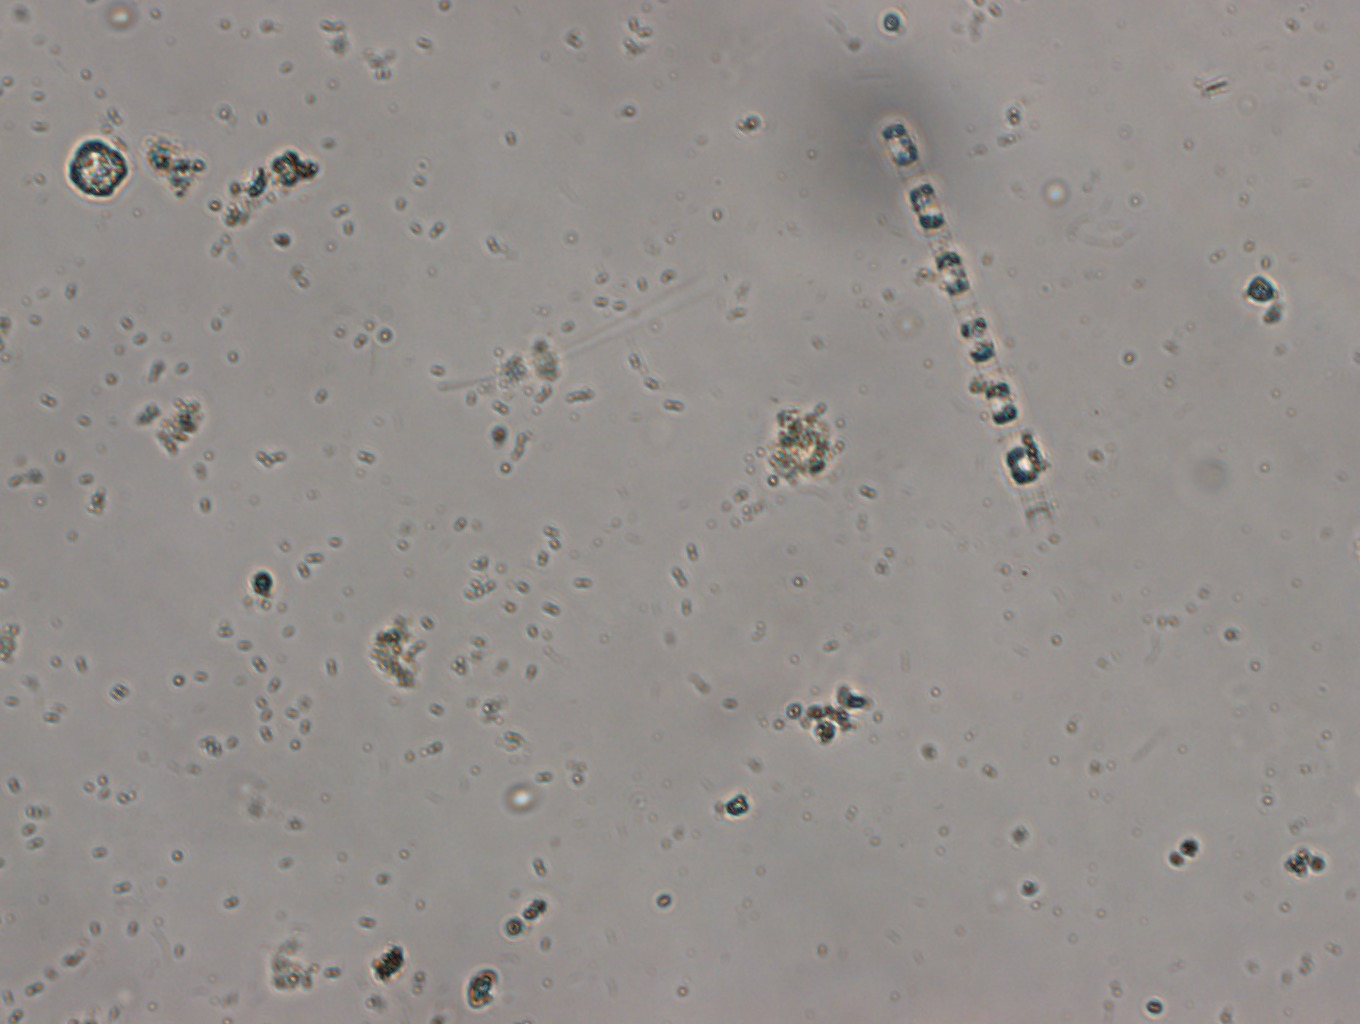skeletonema: (878, 117, 1055, 542)
